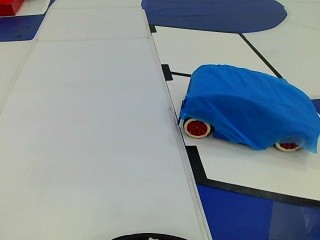car: (172, 63, 318, 152)
